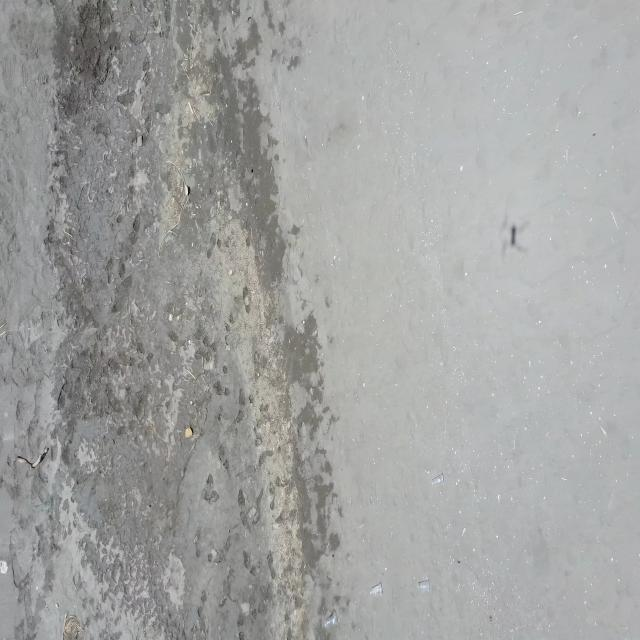takeaway-cup: (324, 610, 339, 630), (368, 582, 384, 598), (430, 471, 444, 489), (416, 578, 431, 593)
